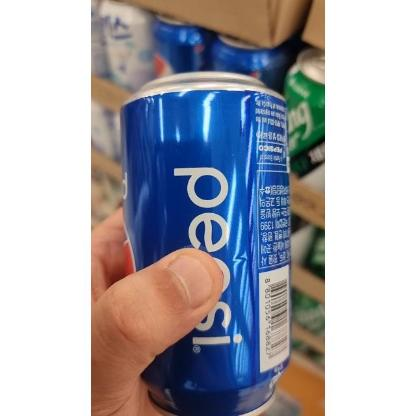Can: (119, 70, 292, 416)
